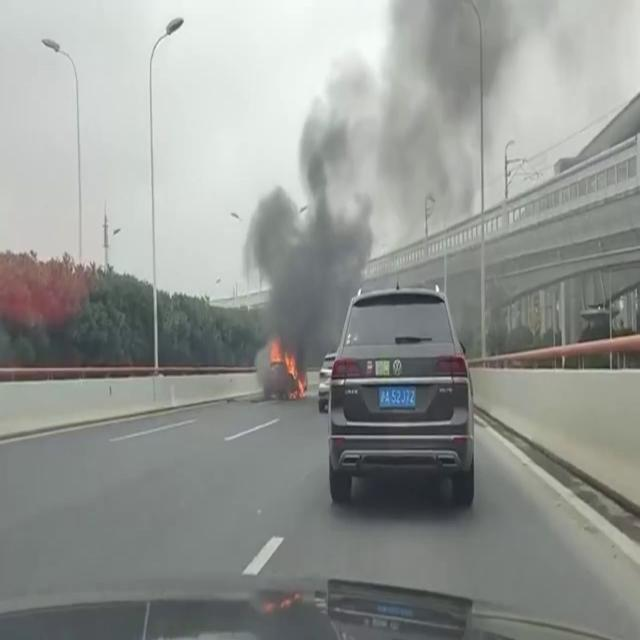single accident: (232, 322, 307, 420)
